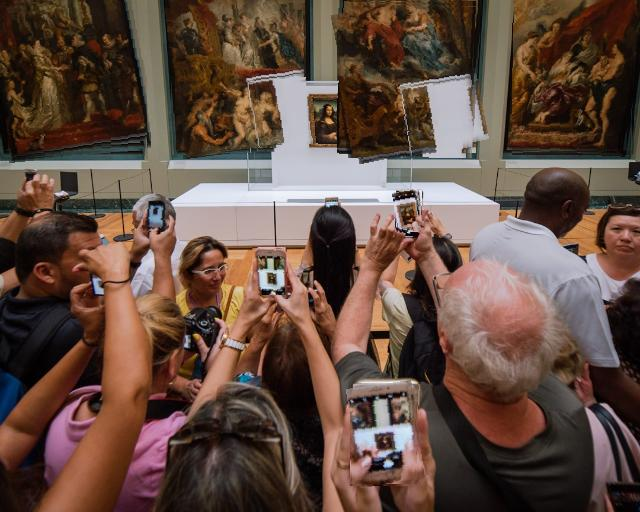art: (0, 0, 147, 159), (337, 0, 482, 158), (169, 0, 306, 155), (512, 0, 635, 155), (305, 98, 351, 144)
phone: (350, 382, 422, 486), (253, 247, 287, 295), (394, 189, 424, 233), (143, 202, 169, 232)
